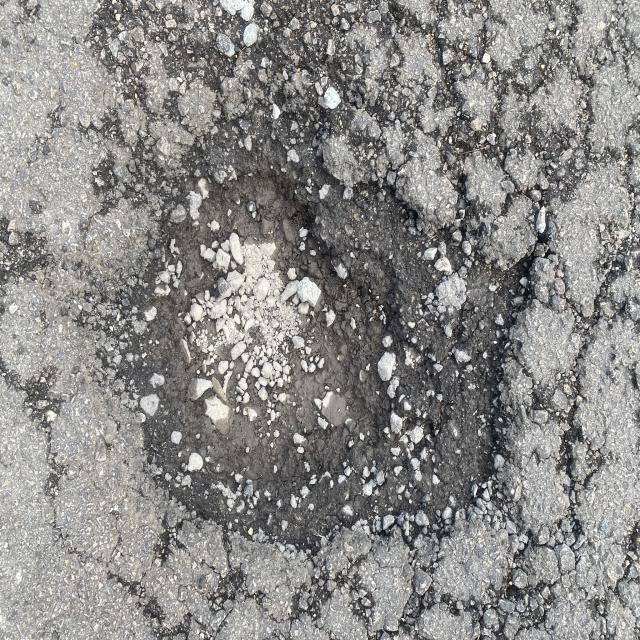Pothole: (100, 117, 558, 553)
